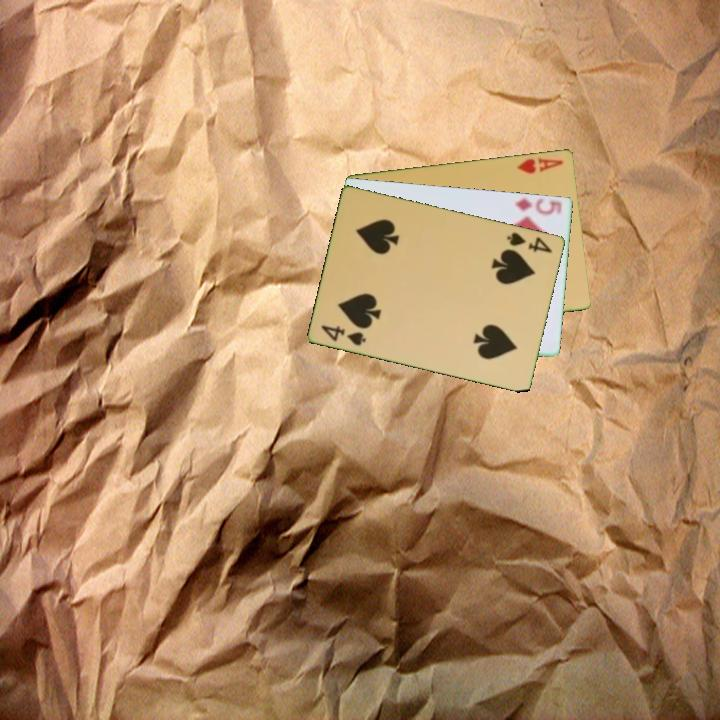4s: (504, 228, 556, 256), (318, 321, 369, 348)
5d: (511, 194, 564, 217)
Ah: (514, 153, 566, 176)
